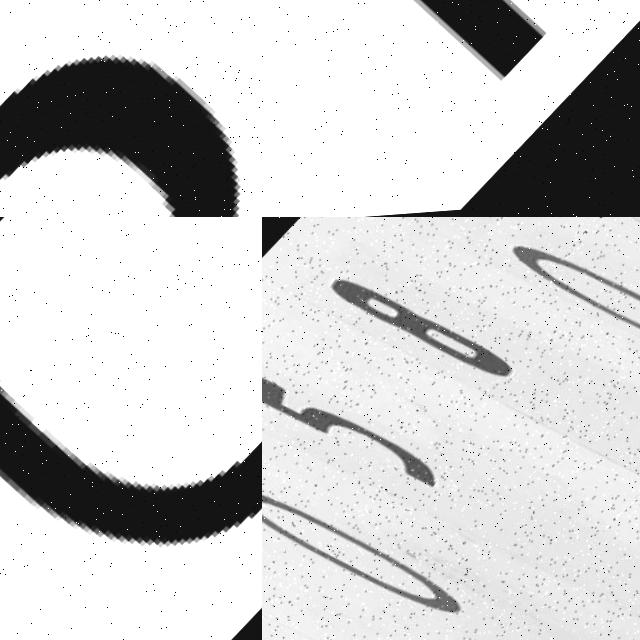0: (470, 217, 640, 451)
5: (0, 0, 262, 217), (262, 311, 475, 553)
8: (296, 217, 546, 444)
9: (526, 217, 640, 365)
C: (0, 387, 262, 553)
I: (415, 0, 560, 88)
